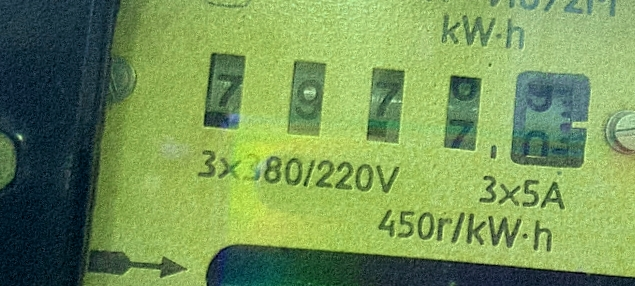0: (519, 123, 554, 164)
7: (370, 76, 403, 121), (211, 69, 244, 113), (444, 115, 477, 152)
9: (290, 75, 327, 122), (524, 76, 557, 114)
screen: (181, 28, 617, 192)
